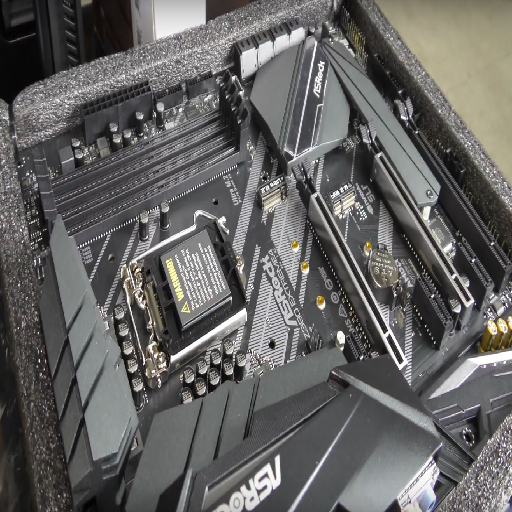CPU: (121, 223, 250, 388)
GPU: (294, 160, 409, 369), (359, 120, 471, 332), (395, 96, 511, 291)
MOTHERBOARD: (19, 13, 507, 512)
RAM: (34, 68, 252, 247)
SSD: (257, 174, 290, 213), (329, 181, 358, 214)
